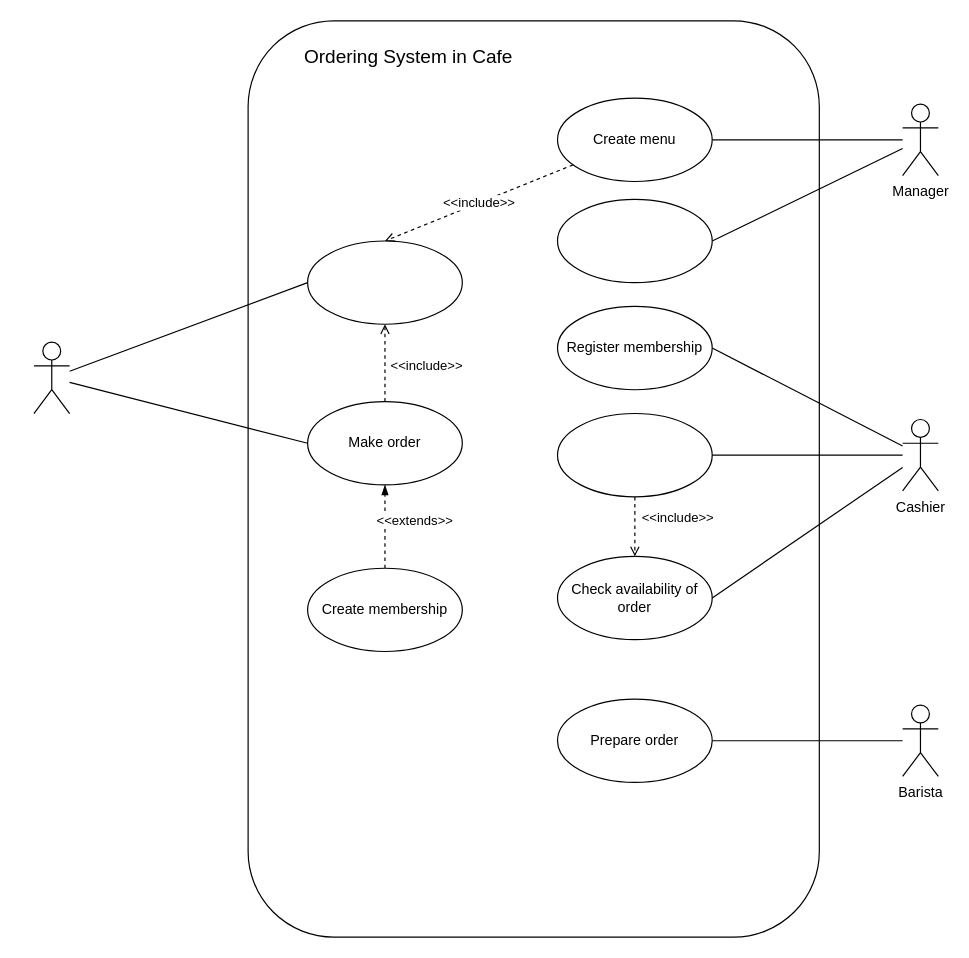
The diagram is 969 pixels wide and 958 high, and some of its shapes have lost their labels. The centre of each missing label's shape, as x and y in pixels:
"Customer" goes at pixel 51 377.
"Takes order" goes at pixel 634 454.
"Train barista" goes at pixel 634 240.
"View menu" goes at pixel 384 282.
